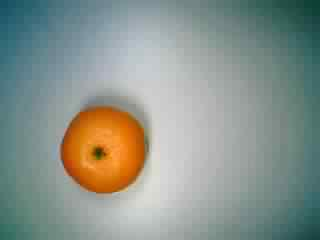orange: (55, 98, 153, 196)
